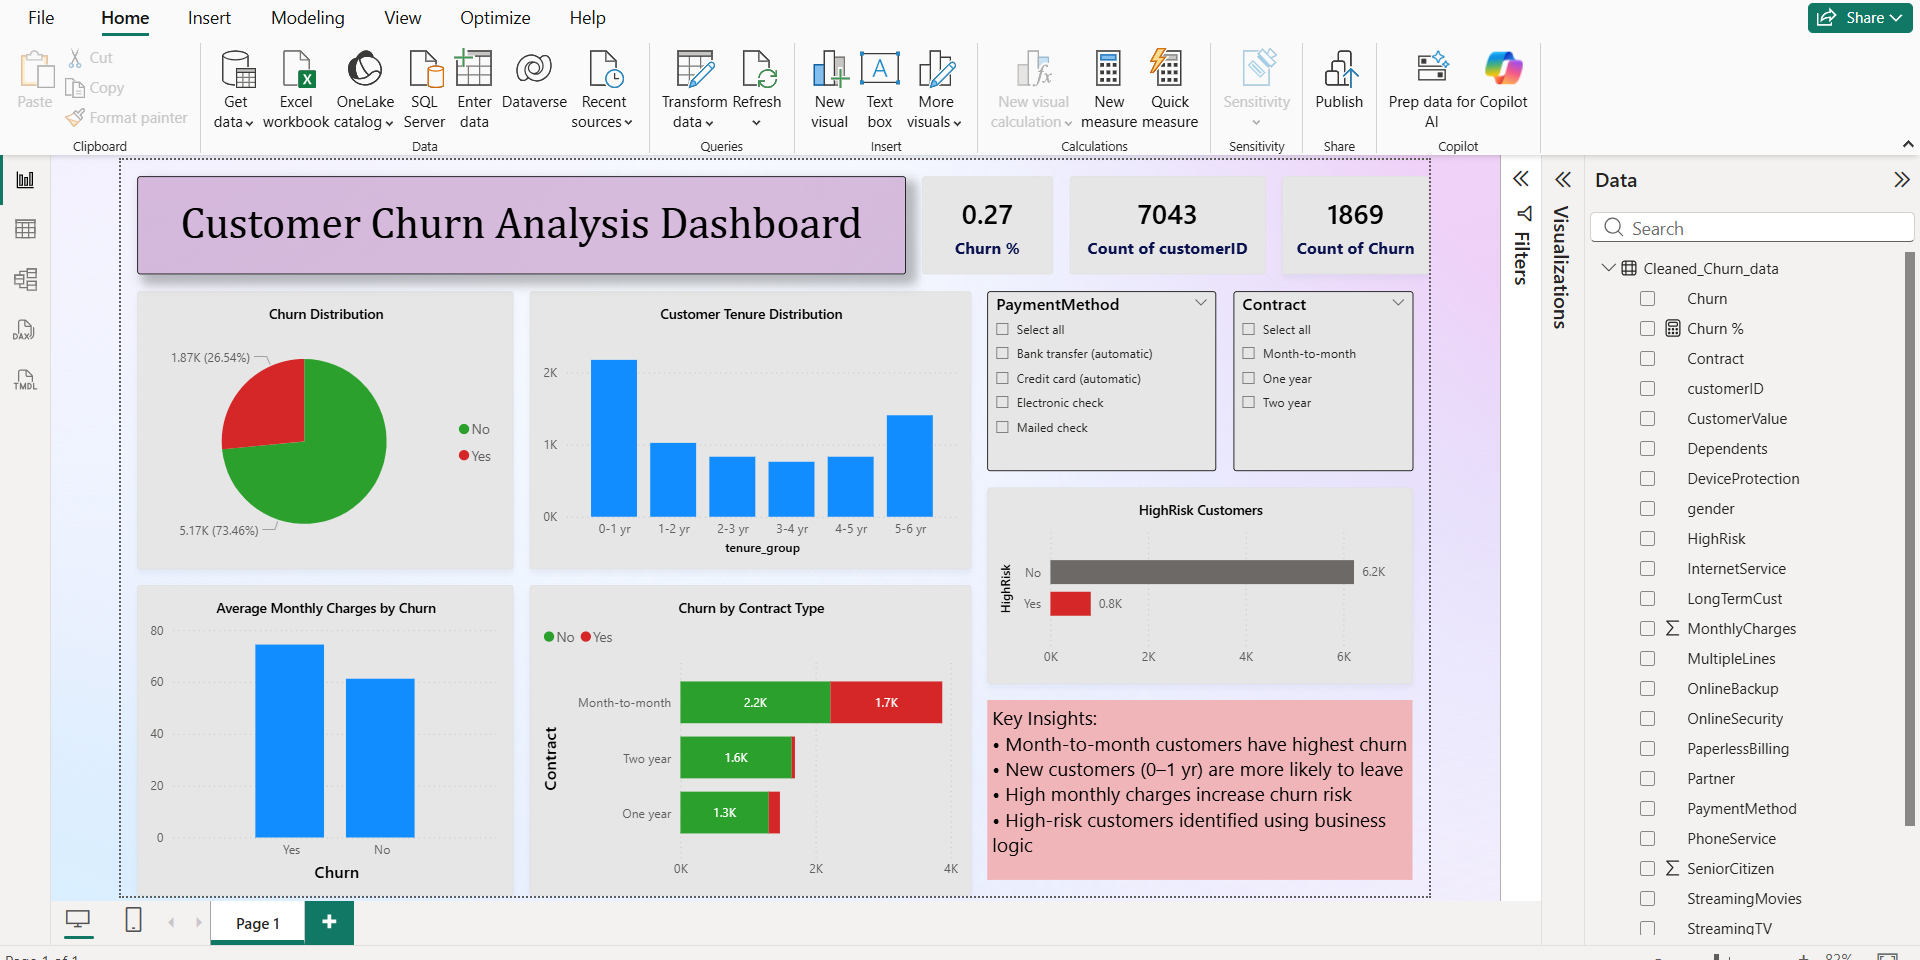

The page's visual inventory and layout, read from the dashboard file:
{"tool":"powerbi","page":{"name":"Page 1","canvas":[1280,720],"ordinal":0},"visuals":[{"type":"pieChart","title":"Churn Distribution","fields":{"Category":["Cleaned_Churn_data (2).Churn"],"Y":["CountNonNull(Cleaned_Churn_data (2).Churn)"]},"box":[16,128,368,272],"z":0},{"type":"barChart","title":"Churn by Contract Type","fields":{"Category":["Cleaned_Churn_data (2).Contract"],"Series":["Cleaned_Churn_data (2).Churn"],"Y":["CountNonNull(Cleaned_Churn_data (2).Churn)"]},"box":[400,416,432,304],"z":1000},{"type":"columnChart","title":"Customer Tenure Distribution","fields":{"Category":["Cleaned_Churn_data (2).tenure_group"],"Y":["CountNonNull(Cleaned_Churn_data (2).Churn)"]},"box":[400,128,432,272],"z":2000},{"type":"clusteredColumnChart","title":"Average Monthly Charges by Churn","fields":{"Category":["Cleaned_Churn_data (2).Churn"],"Y":["Avg(Cleaned_Churn_data (2).MonthlyCharges)"]},"box":[16,416,368,304],"z":3000},{"type":"barChart","title":" HighRisk Customers ","fields":{"Category":["Cleaned_Churn_data (2).HighRisk"],"Y":["CountNonNull(Cleaned_Churn_data (2).customerID)"]},"box":[848,320,416,192],"z":4000},{"type":"card","title":"Total Customers","fields":{"Values":["CountNonNull(Cleaned_Churn_data (2).customerID)"]},"box":[928,16,192,96],"z":5000},{"type":"card","fields":{"Values":["CountNonNull(Cleaned_Churn_data (2).Churn)"]},"box":[1136,16,144,96],"z":6000},{"type":"slicer","fields":{"Values":["Cleaned_Churn_data (2).Contract"]},"box":[1088,128,176,176],"z":7000},{"type":"slicer","fields":{"Values":["Cleaned_Churn_data (2).PaymentMethod"]},"box":[848,128,224,176],"z":8000},{"type":"textbox","title":"Customer Churn Analysis Dashboard","box":[16,16,752,96],"z":9000},{"type":"card","title":"Total Customers","fields":{"Values":["Cleaned_Churn_data.Churn %"]},"box":[784,16,128,96],"z":9001},{"type":"textbox","box":[848,528,416,176],"z":9002}]}

Visuals, with their boxes on the page's 1280x720 design canvas (x1, y1, x2, y2). These are canvas units, not pixel positions in the 1920x960 screenshot, which may show the page scaled, cropped or inside an application window:
"Churn Distribution" pieChart: region(16, 128, 384, 400)
"Churn by Contract Type" barChart: region(400, 416, 832, 720)
"Customer Tenure Distribution" columnChart: region(400, 128, 832, 400)
"Average Monthly Charges by Churn" clusteredColumnChart: region(16, 416, 384, 720)
" HighRisk Customers " barChart: region(848, 320, 1264, 512)
"Total Customers" card: region(928, 16, 1120, 112)
card - CountNonNull(Cleaned_Churn_data (2).Churn): region(1136, 16, 1280, 112)
slicer - Cleaned_Churn_data (2).Contract: region(1088, 128, 1264, 304)
slicer - Cleaned_Churn_data (2).PaymentMethod: region(848, 128, 1072, 304)
"Customer Churn Analysis Dashboard" textbox: region(16, 16, 768, 112)
"Total Customers" card: region(784, 16, 912, 112)
textbox: region(848, 528, 1264, 704)
